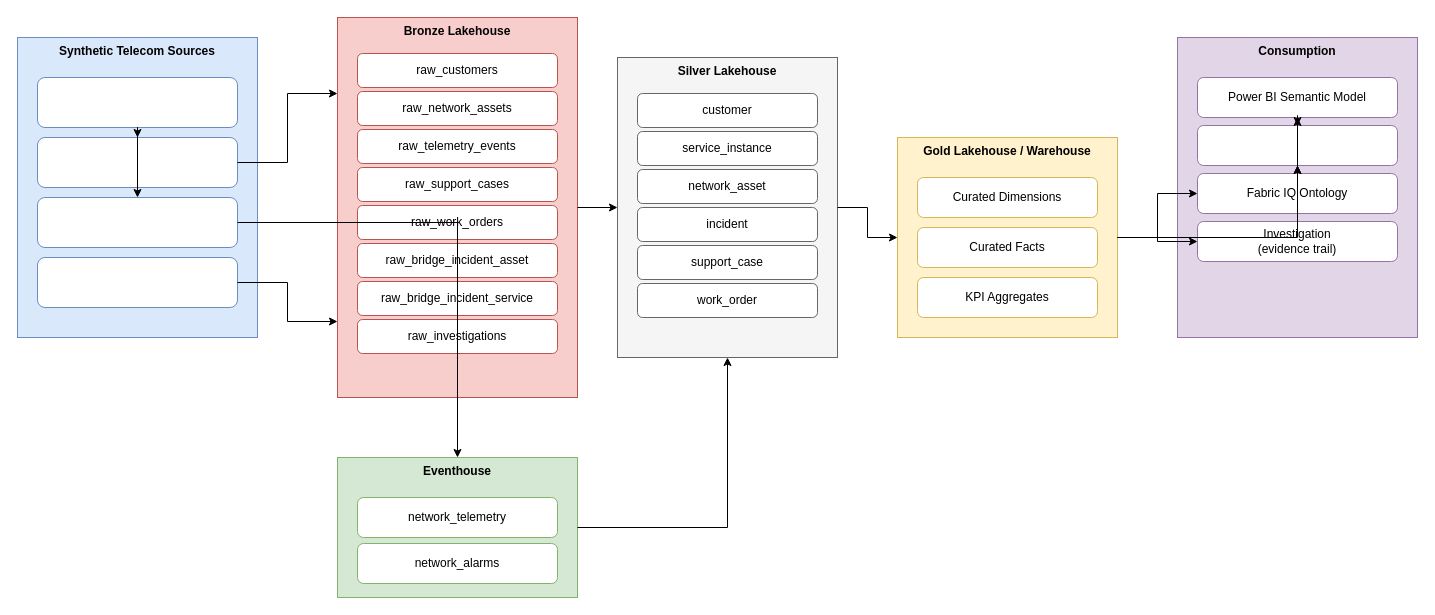
Image size: 1435x615. Some labels were removed from this diagram. The shapes that lost their labels are listed below. From the top down, each one's centre as x and y in pixels, then its label:
At (x=137, y=102): "generate.py (scenario_config.yaml)".
At (x=137, y=162): "validate_scenario.py (21 acceptance checks)".
At (x=1297, y=145): "Power BI Demo Report".
At (x=137, y=222): "stream_simulator.py (live replay, now-anchored)".
At (x=137, y=282): "Generate_Nimbus_Scenario_Data.ipynb (Fabric-native, no local setup)".
